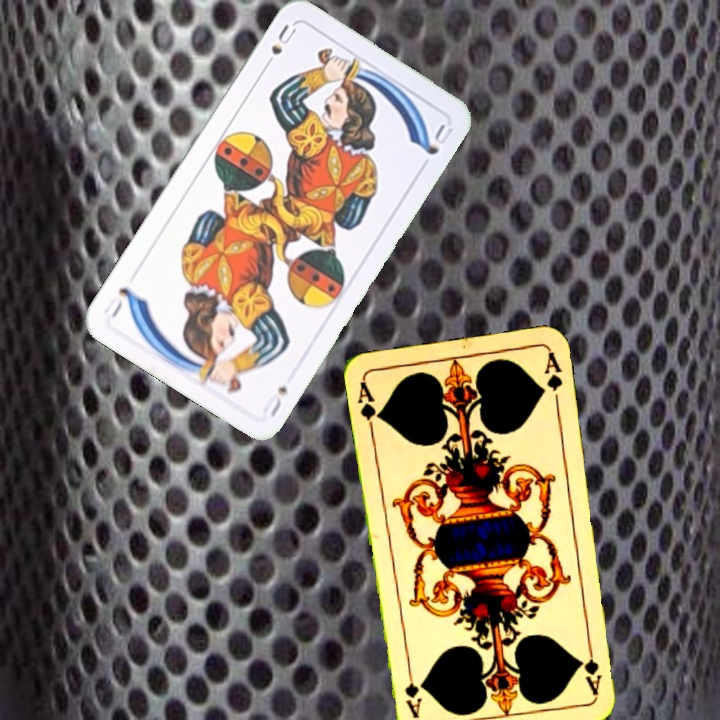GA: (354, 377, 385, 436), (581, 637, 604, 696)
SU: (258, 20, 299, 73), (258, 381, 290, 419)
